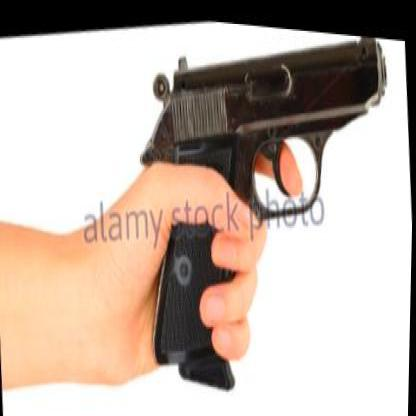pistol: (127, 10, 407, 399)
